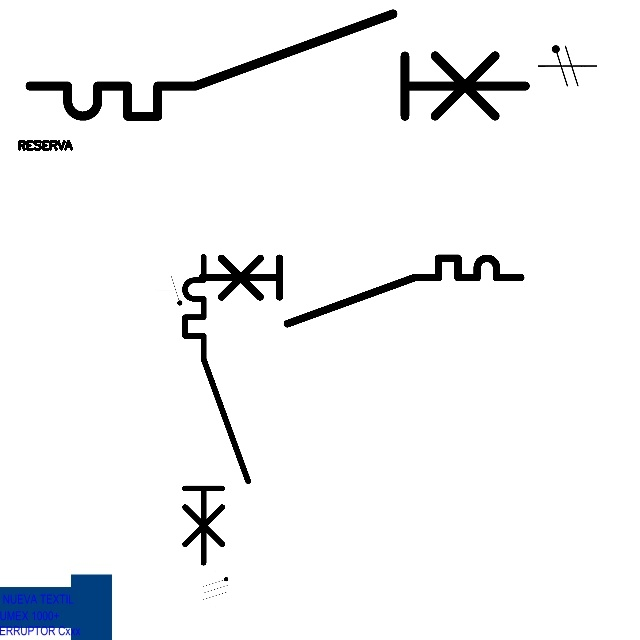interruptor_termomagnetico: (17, 1, 538, 129), (193, 250, 528, 332), (177, 249, 255, 571)
